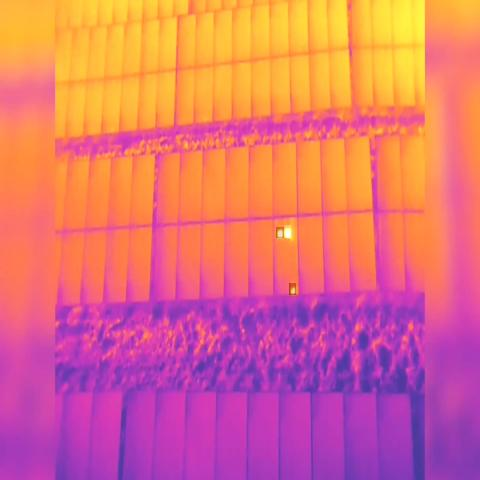fault: (284, 225, 291, 238), (276, 227, 284, 238), (289, 283, 296, 295)
